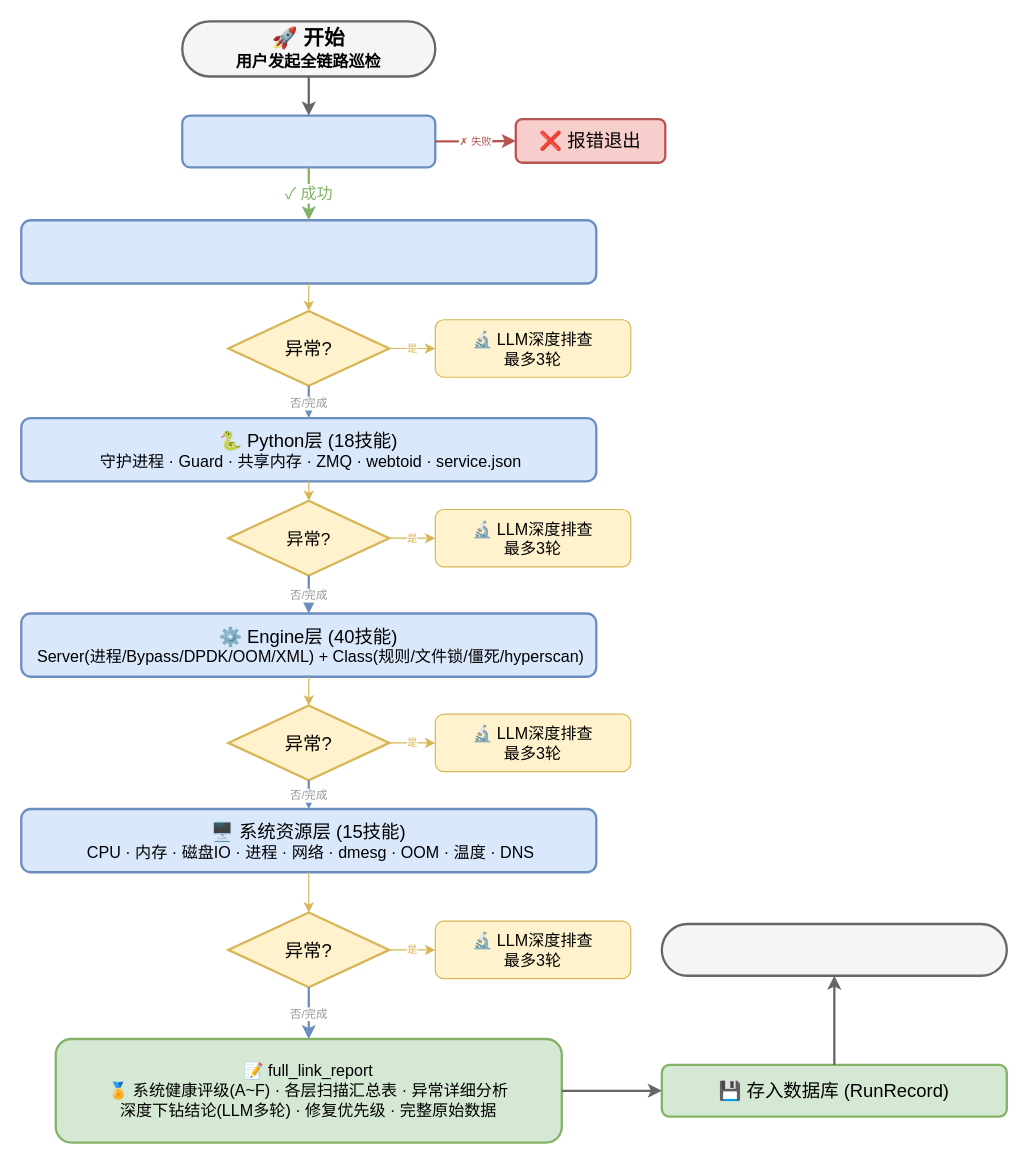
Some shapes in this 1027 by 1163 pixel diagram are drawn without their labels. The centre of each missing label's shape, as x and y in pixels:
"✅ 推送报告 · 巡检完成" goes at point 833,949.
"🌐 Web层 (20技能) Nginx · PHP-FPM · PG · Redis · SSL · 端口 · 磁盘 · ZMQ" goes at point 308,251.
"🔌 Connect · 建立SSH连接" goes at point 308,141.
